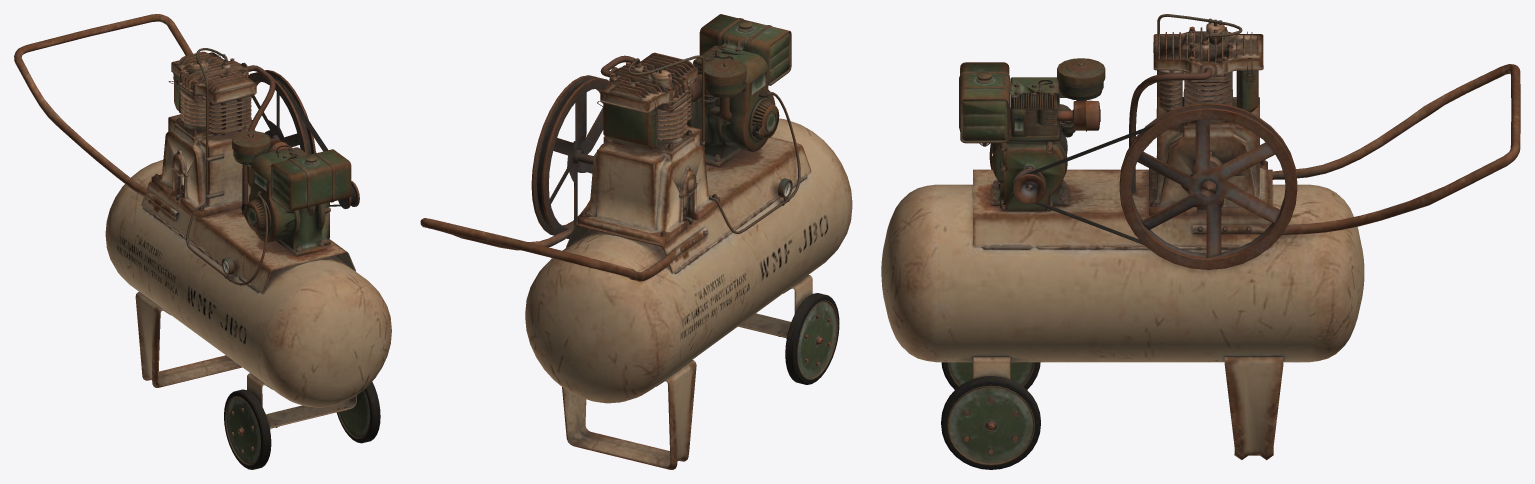
The model's file is compressor.glb.
The picture shows the model from 3 angles, left to right: view 1: azimuth 30°, elevation 25°; view 2: azimuth 150°, elevation 25°; view 3: azimuth 270°, elevation 25°; orthographic projection. The views are drawn at different scales.
Visible parts, largest first — view 1: old_military_compressor; view 2: old_military_compressor; view 3: old_military_compressor.
Boxes of the visible parts, <box> form: old_military_compressor: <box>14,14,391,469</box>; old_military_compressor: <box>420,14,852,469</box>; old_military_compressor: <box>881,14,1520,469</box>.
Size of the model in its own units: 0.5983 by 1.18 by 1.68.
2 materials, 2 textured.
